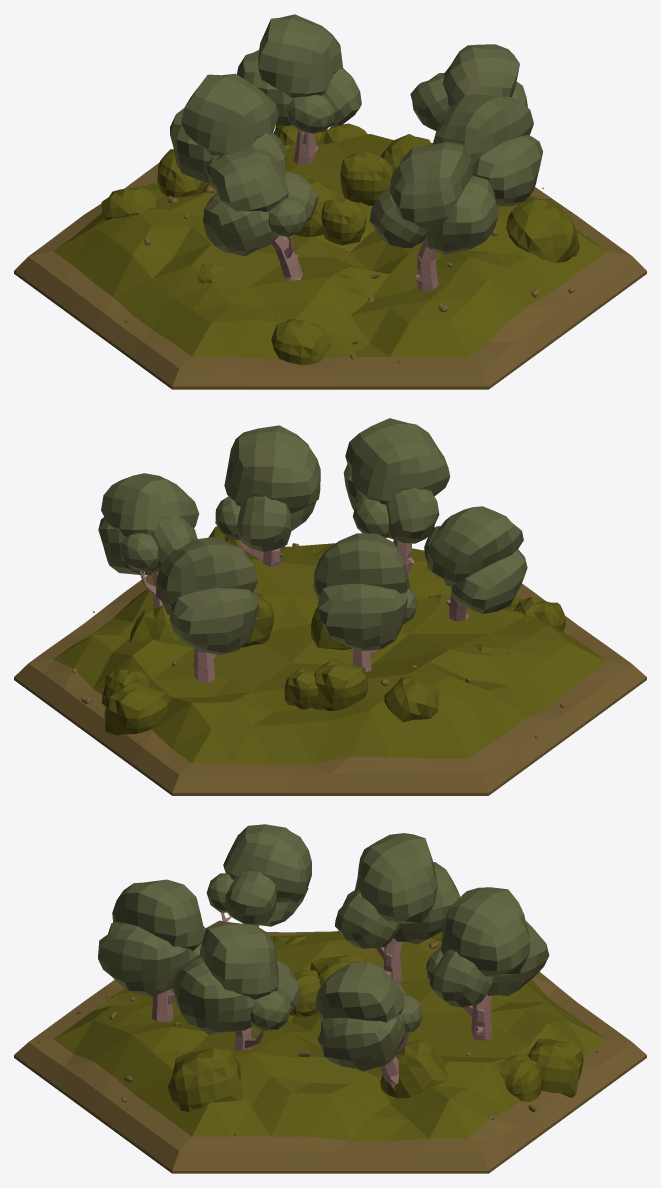
Rendered from tropicalRainforest.glb.
3 views of the same model, one above another, from view 1: azimuth 30°, elevation 25°; view 2: azimuth 150°, elevation 25°; view 3: azimuth 270°, elevation 25° (orthographic).
Visible parts, largest first — view 1: land, big_details, small_details; view 2: land, big_details; view 3: land, big_details.
Boxes of the visible parts, x1,y1,x2,y2 form: land: [14, 134, 646, 389]; big_details: [101, 14, 579, 364]; small_details: [76, 143, 585, 363]; land: [14, 543, 646, 795]; big_details: [98, 418, 565, 735]; land: [14, 931, 646, 1173]; big_details: [98, 824, 583, 1111].
Bounding box in the file's own units: 1.73 × 0.6744 × 2.
